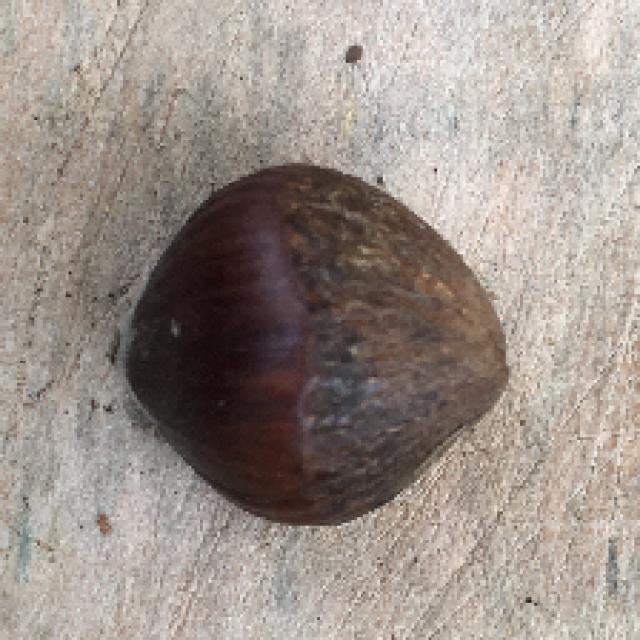damagedHazelnut: (121, 157, 509, 543)
